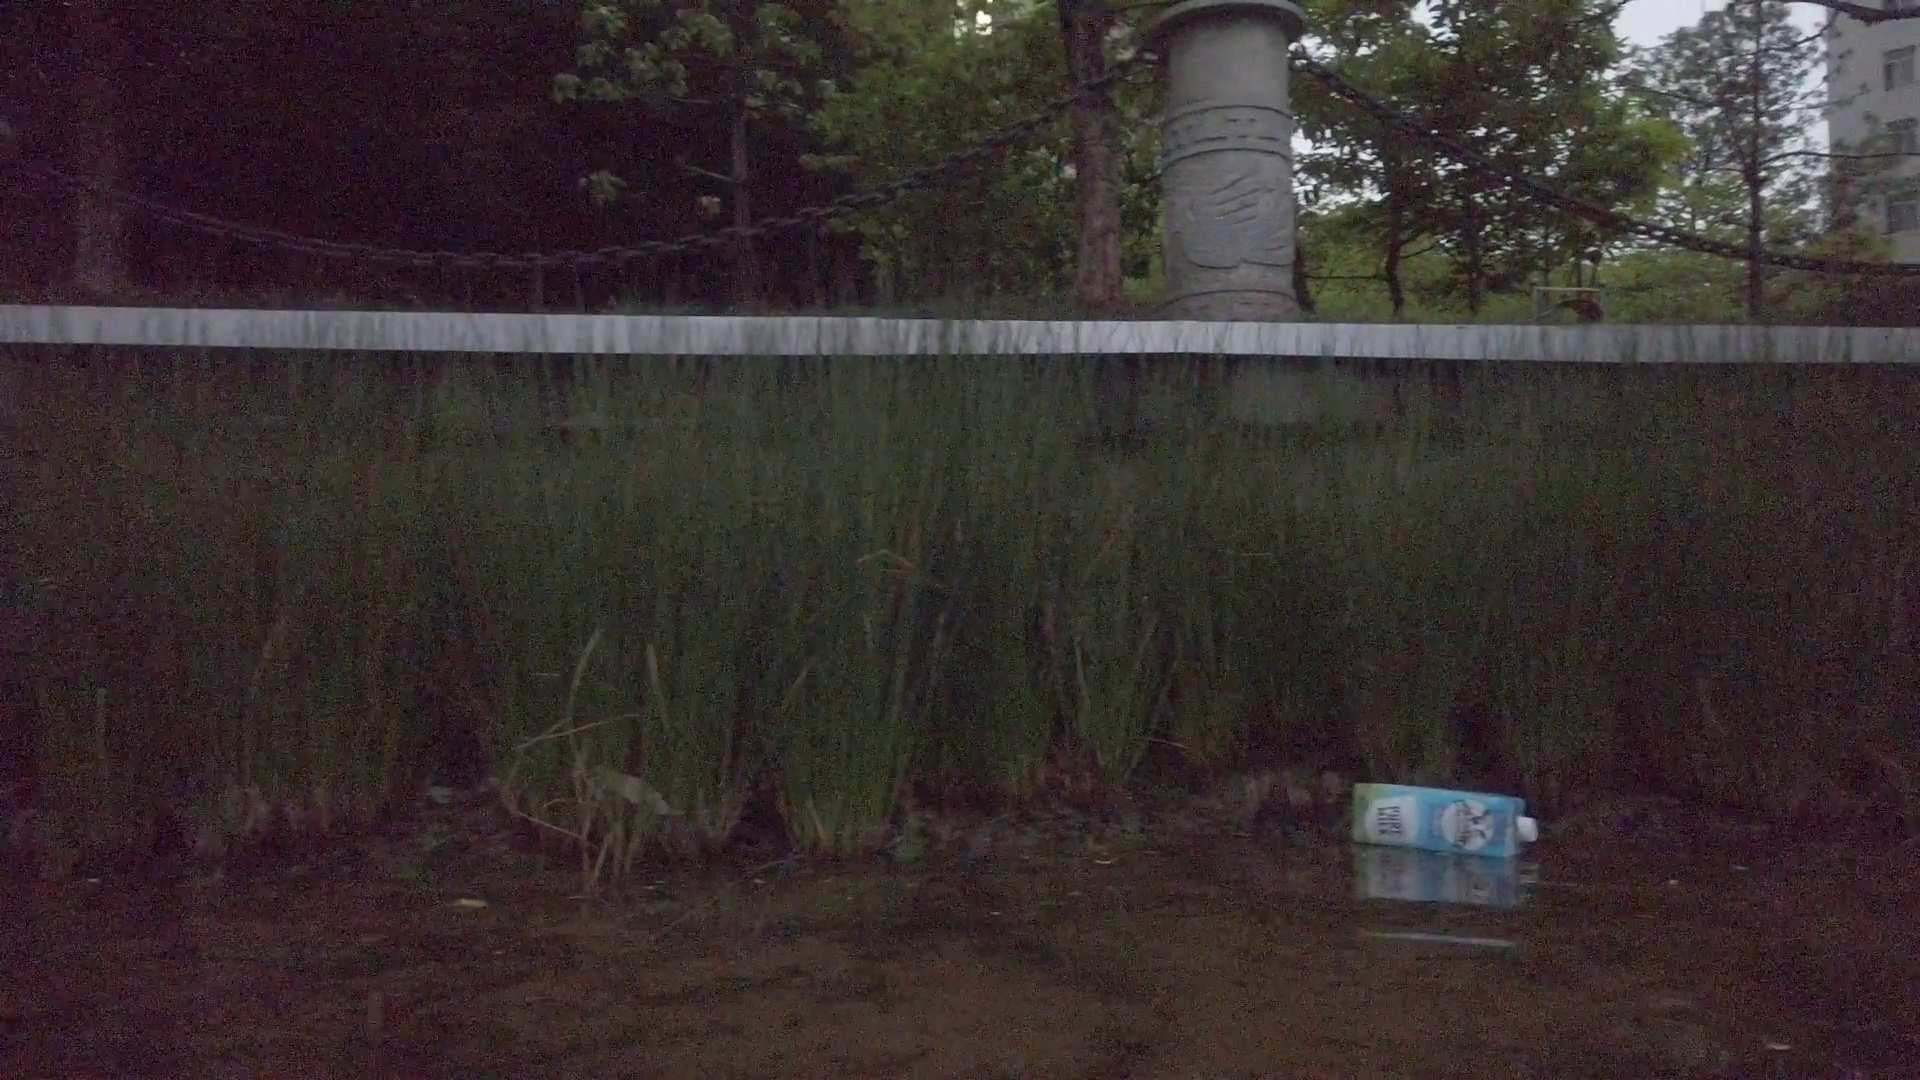carton: (1350, 779, 1542, 860)
